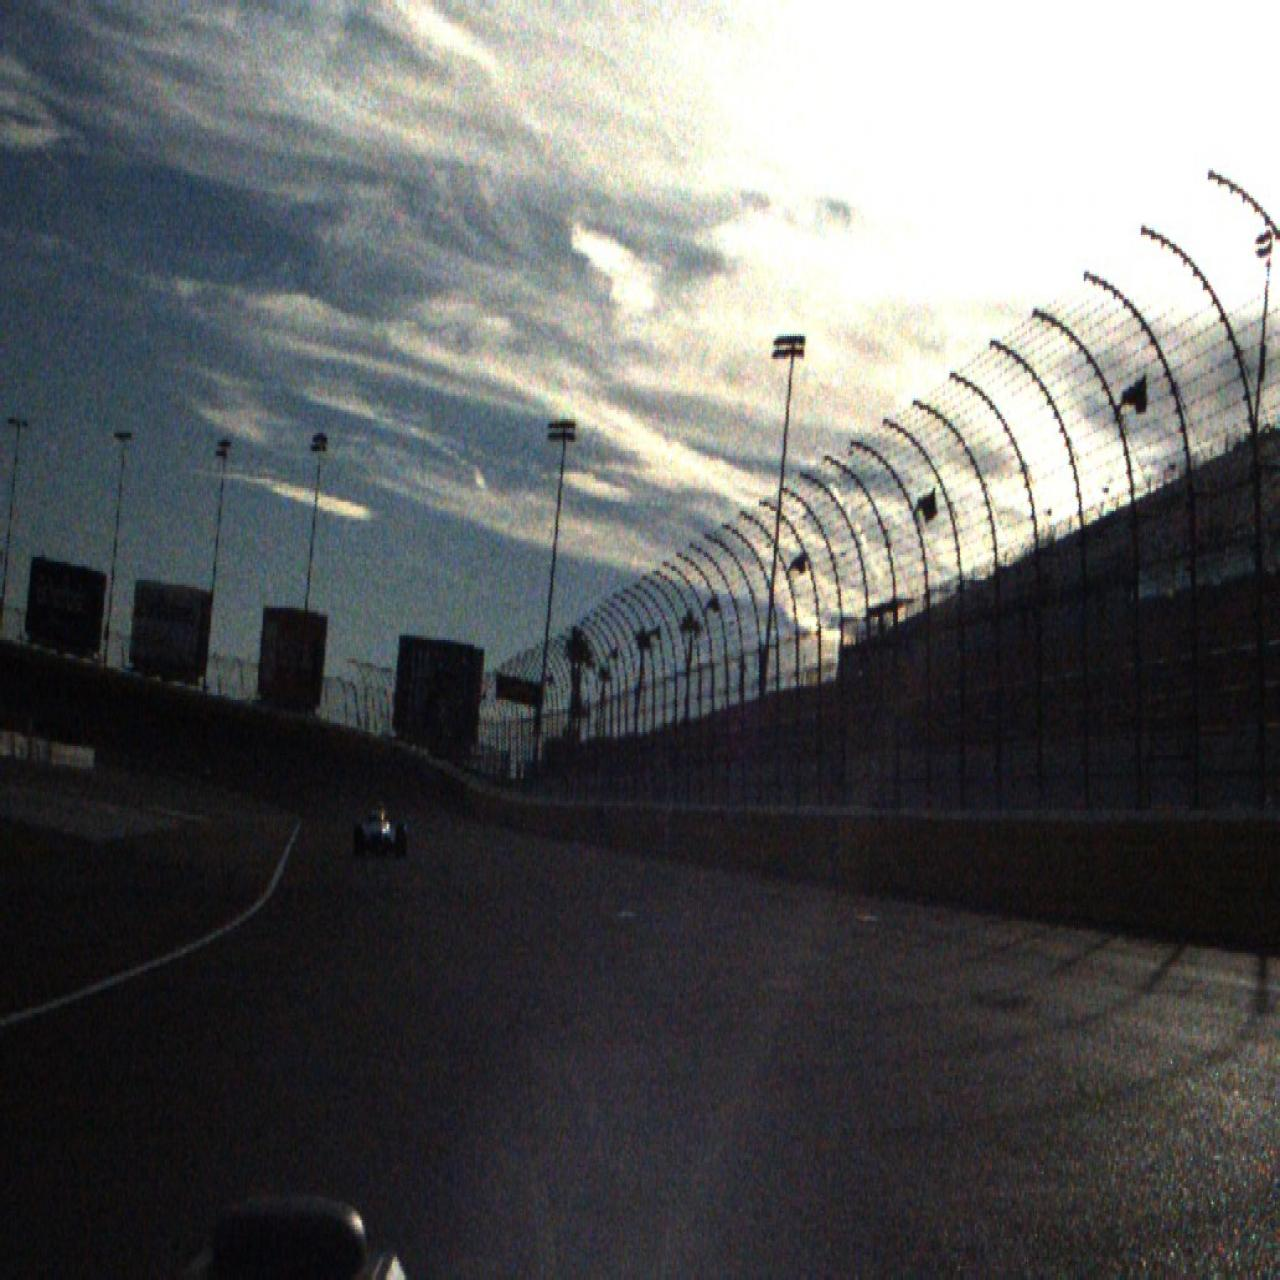AV: (353, 799, 408, 859)
Wheel: (353, 824, 365, 859), (396, 824, 408, 858)
